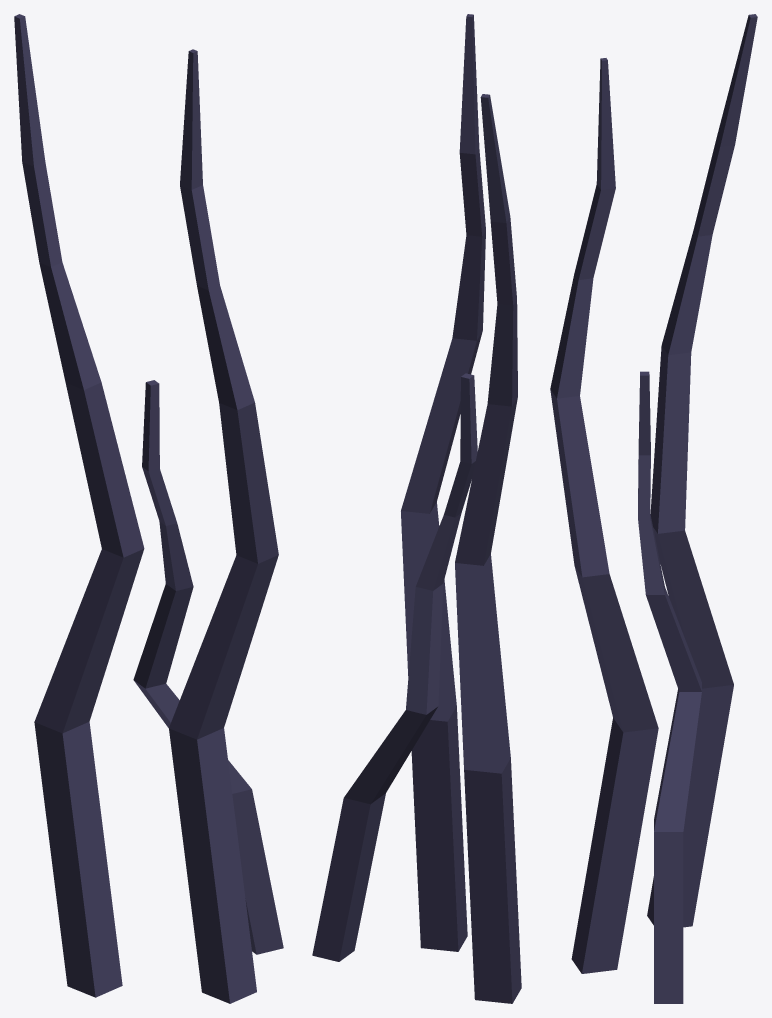
File: VL_Tree01.fbx
The picture shows the model from 3 angles, left to right: view 1: azimuth 30°, elevation 25°; view 2: azimuth 150°, elevation 25°; view 3: azimuth 270°, elevation 25°; orthographic projection. The views are drawn at different scales.
Parts seen in each view (by area): view 1: VL_Tree01; view 2: VL_Tree01; view 3: VL_Tree01.
Boxes of the visible parts, bbox=[...] form: VL_Tree01: bbox=[14, 14, 283, 1003]; VL_Tree01: bbox=[312, 14, 521, 1003]; VL_Tree01: bbox=[550, 14, 757, 1003].
Size of the model in its own units: 90.28 by 369 by 77.91.
1 material, 1 textured.
